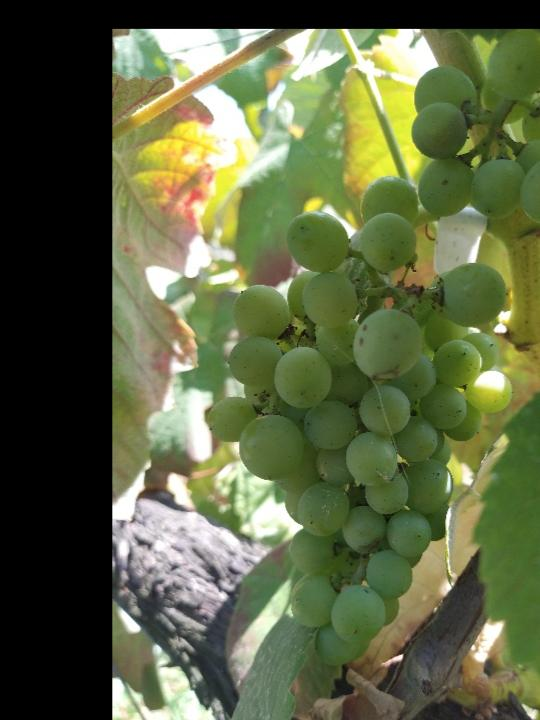grape: (204, 175, 510, 669)
